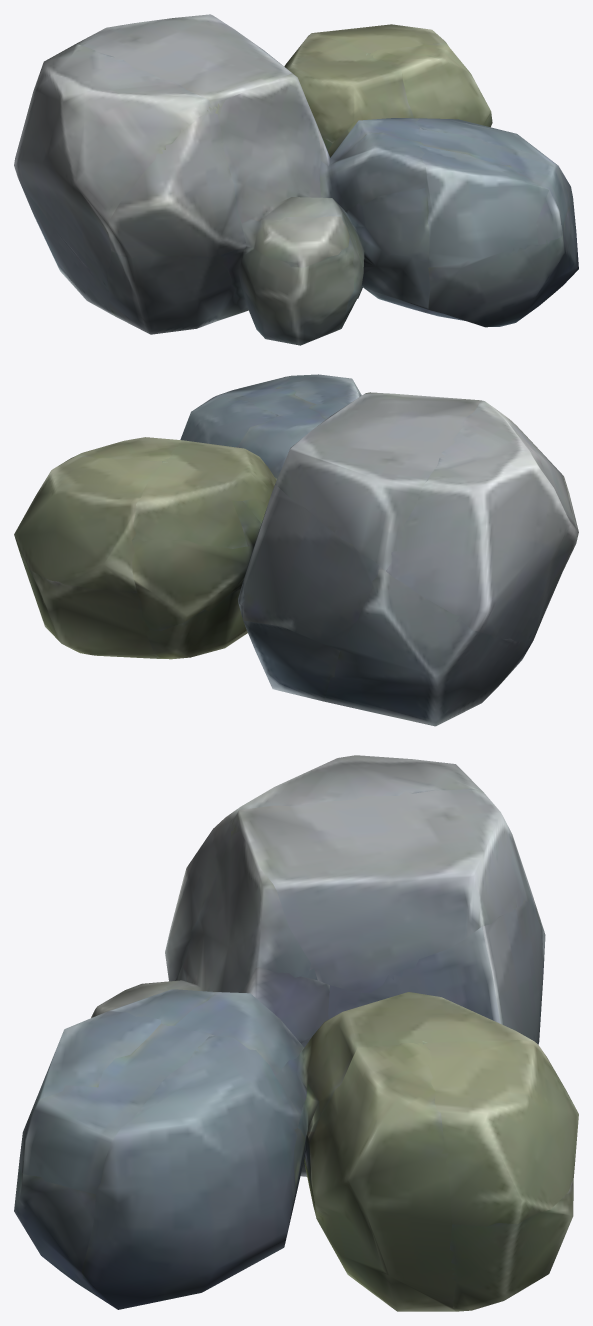
The model's file is rock-cluster.glb.
3 views of the same model, one above another, from view 1: azimuth 30°, elevation 25°; view 2: azimuth 150°, elevation 25°; view 3: azimuth 270°, elevation 25° (orthographic). The views are drawn at different scales.
Bounding box in the file's own units: 1.9 × 0.9595 × 1.58.
Materials: 1 (1 with a texture image).
